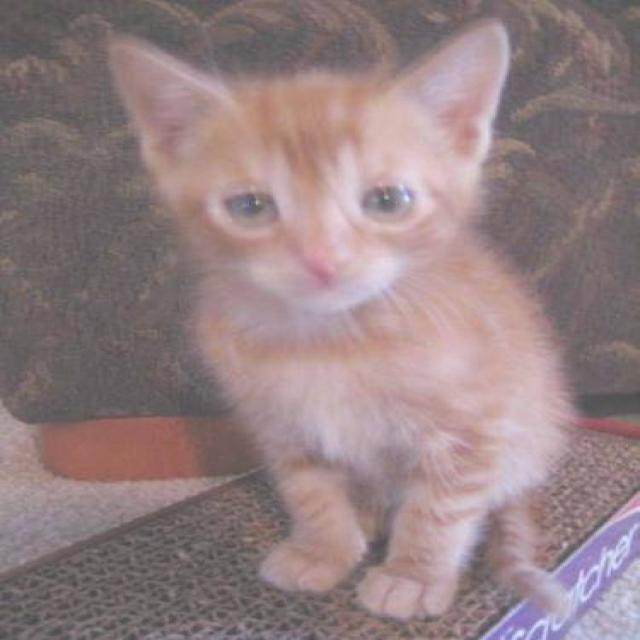cat: (101, 12, 580, 622)
